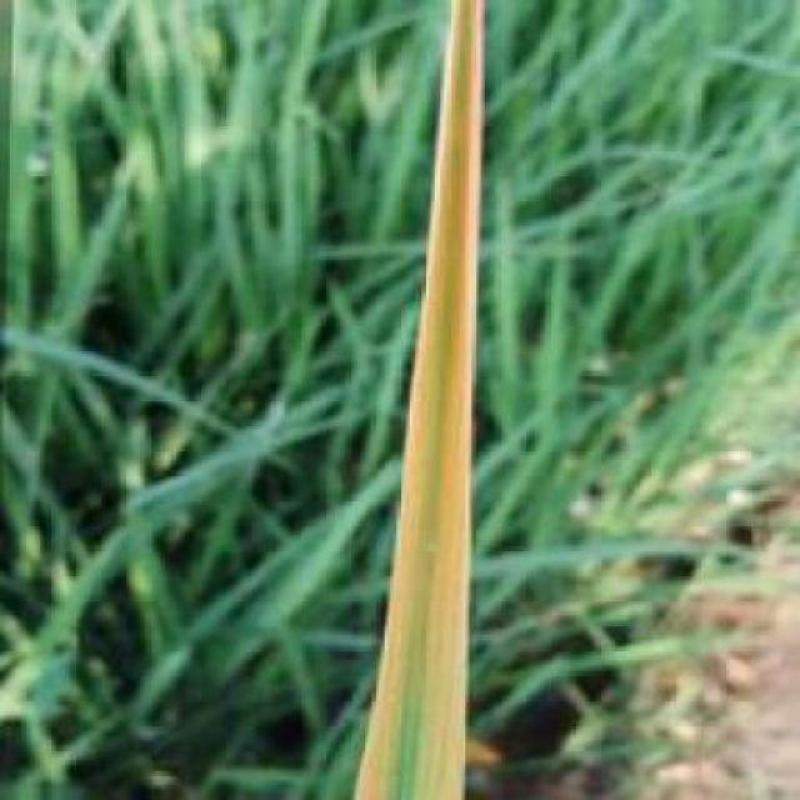Rice Tungro: (350, 2, 485, 798)
